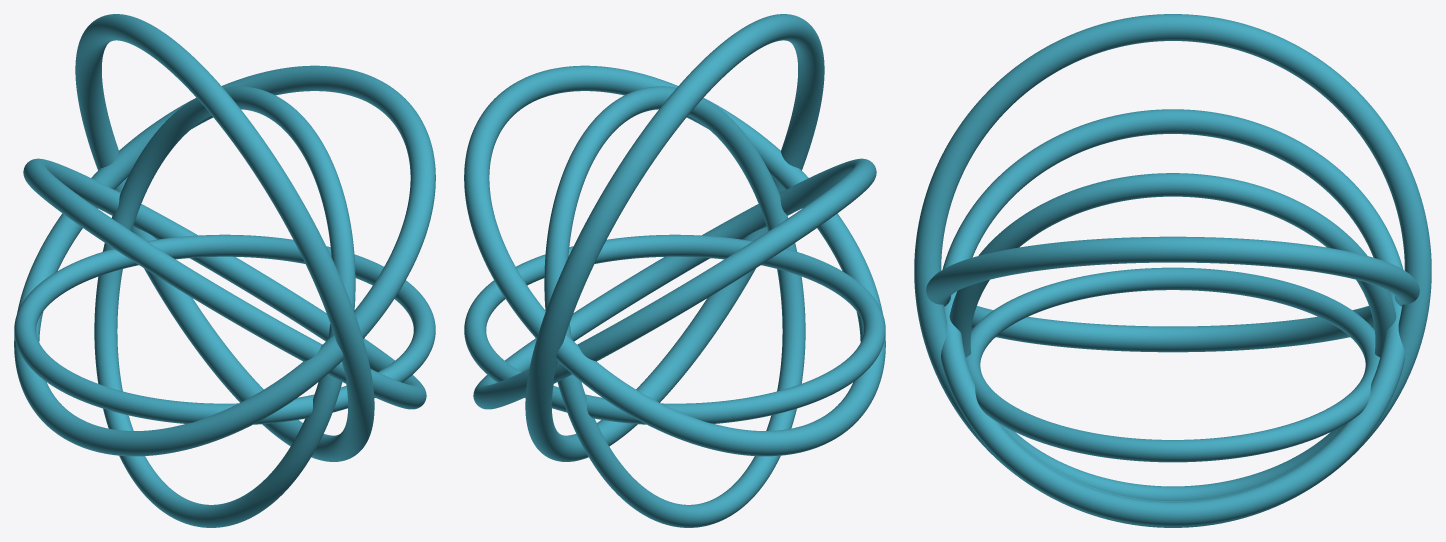
Rendered from 250mila.glb.
The picture shows the model from 3 angles, left to right: view 1: azimuth 30°, elevation 25°; view 2: azimuth 150°, elevation 25°; view 3: azimuth 270°, elevation 25°; orthographic projection. The views are drawn at different scales.
Bounding box in the file's own units: 1.16 × 1.46 × 1.4.
